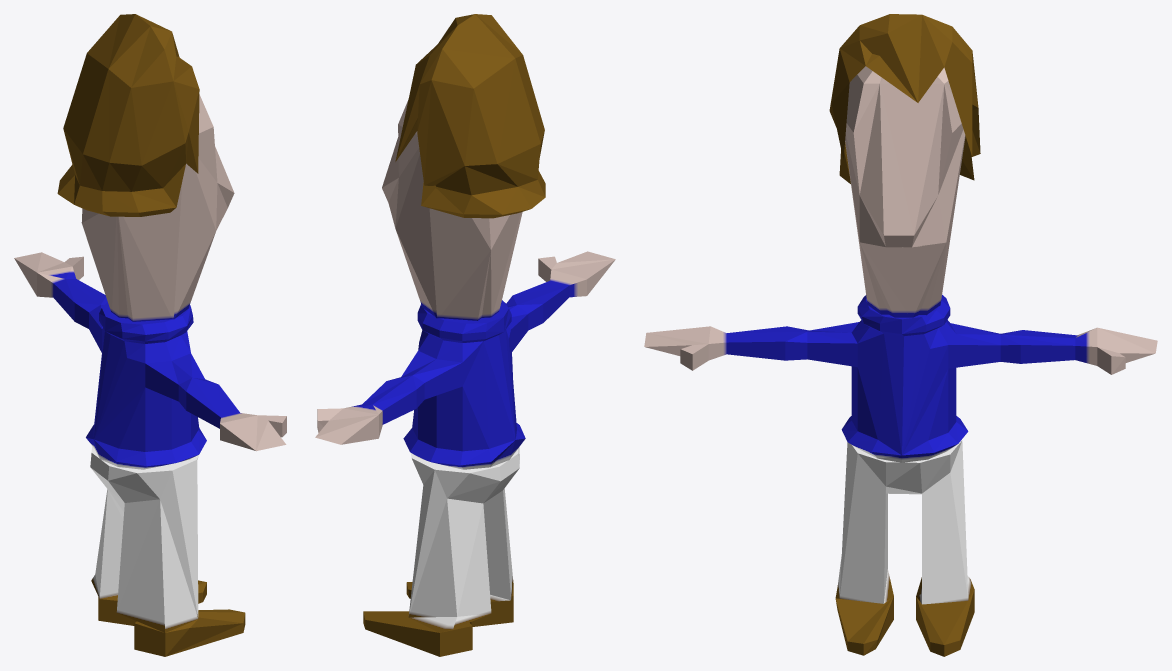
File: Piposhj.glb
3 views of the same model, side by side, from view 1: azimuth 30°, elevation 25°; view 2: azimuth 150°, elevation 25°; view 3: azimuth 270°, elevation 25° (orthographic).
Parts seen in each view (by area): view 1: Piposhj; view 2: Piposhj; view 3: Piposhj.
Part boxes in pixels (x1,y1,x2,y2): Piposhj: (14, 14, 286, 656); Piposhj: (315, 14, 615, 656); Piposhj: (644, 14, 1157, 656).
Bounding box in the file's own units: 67.11 × 247 × 190.
1 material, 1 textured.
